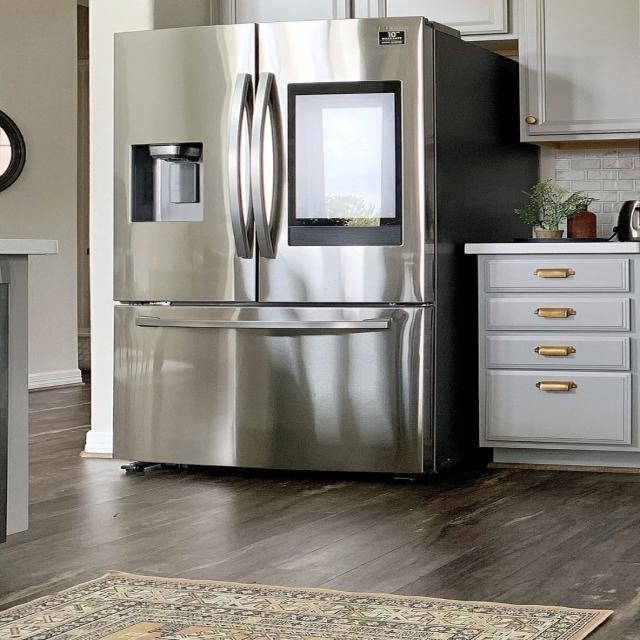obstacle: (109, 15, 542, 478), (465, 242, 638, 469), (514, 0, 639, 149)
